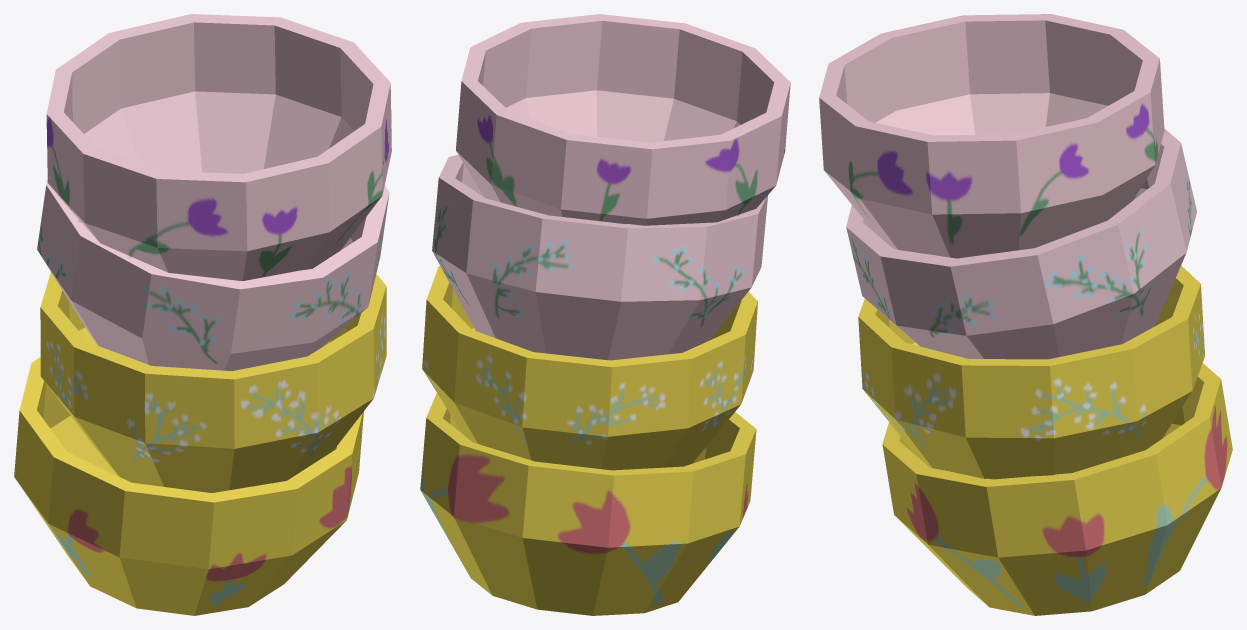
Rendered from pilebole.glb.
3 views of the same model, side by side, from view 1: azimuth 30°, elevation 25°; view 2: azimuth 150°, elevation 25°; view 3: azimuth 270°, elevation 25° (orthographic). The views are drawn at different scales.
Visible parts, largest first — view 1: node_id3; view 2: node_id3; view 3: node_id3.
Part boxes in pixels (x1=…): node_id3: x1=14, y1=14, x2=391, y2=615; node_id3: x1=420, y1=14, x2=790, y2=615; node_id3: x1=819, y1=14, x2=1232, y2=615.
Size of the model in its own units: 0.3306 by 0.5173 by 0.378.
1 material, 1 textured.
